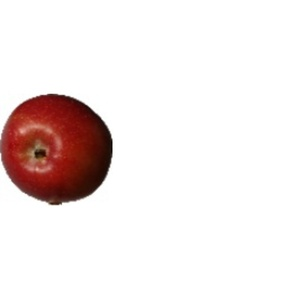maçã braeburn: (1, 87, 117, 209)
